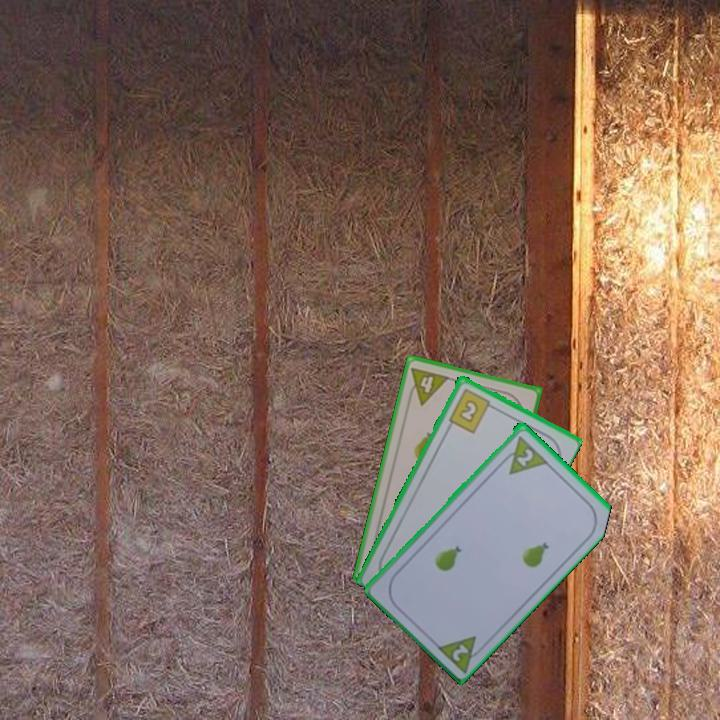2b: (445, 385, 498, 435)
2p: (496, 431, 549, 477), (448, 640, 472, 664)
4p: (404, 363, 452, 408)
